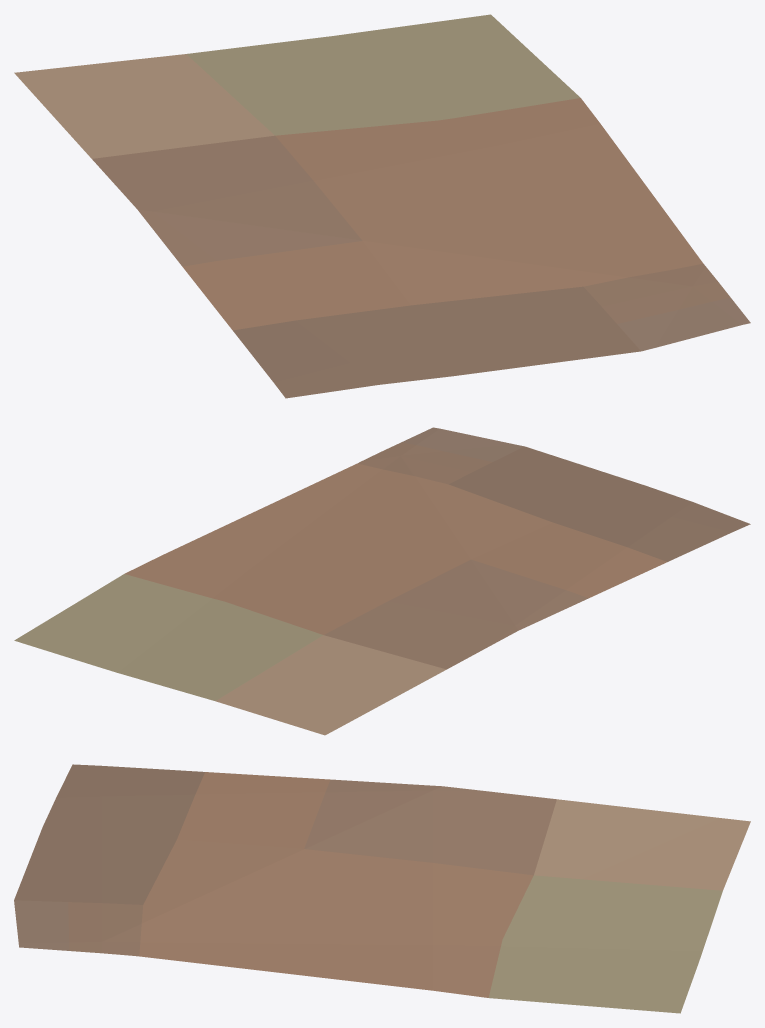
File: farm_24_38_soil.glb
3 renders of one model, top to bottom at view 1: azimuth 30°, elevation 25°; view 2: azimuth 150°, elevation 25°; view 3: azimuth 270°, elevation 25°, orthographic. The views are drawn at different scales.
Parts seen in each view (by area): view 1: geometry_0; view 2: geometry_0; view 3: geometry_0.
Part boxes in pixels (<box>): geometry_0: <box>14,14,750,398</box>; geometry_0: <box>14,427,750,735</box>; geometry_0: <box>14,764,750,1013</box>.
Size of the model in its own units: 133 by 6.6 by 178.
